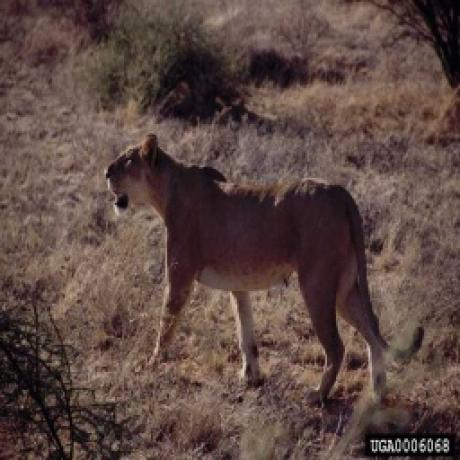Lion: (106, 132, 428, 396)
